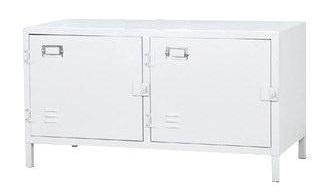cabinet_door: (149, 37, 272, 144), (29, 35, 143, 137)
handle: (39, 45, 65, 60), (162, 49, 190, 61)
